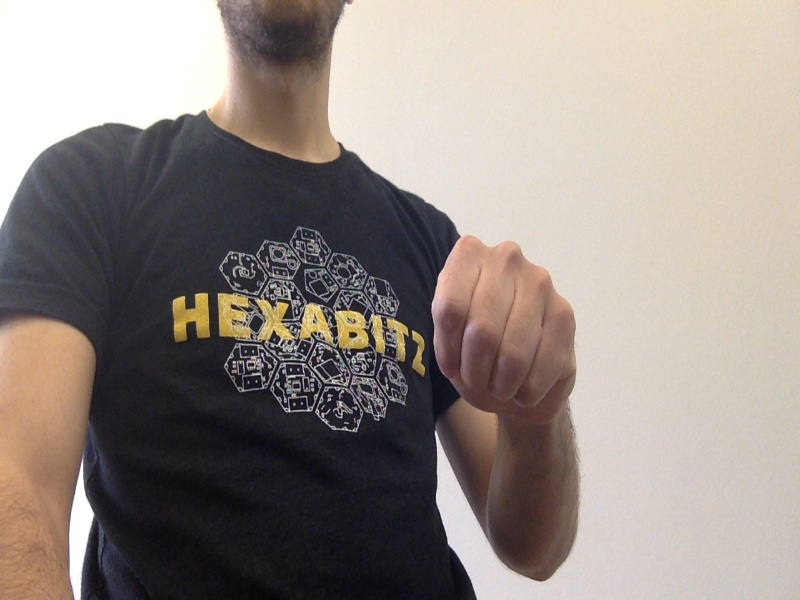0-hand: (429, 237, 579, 415)
